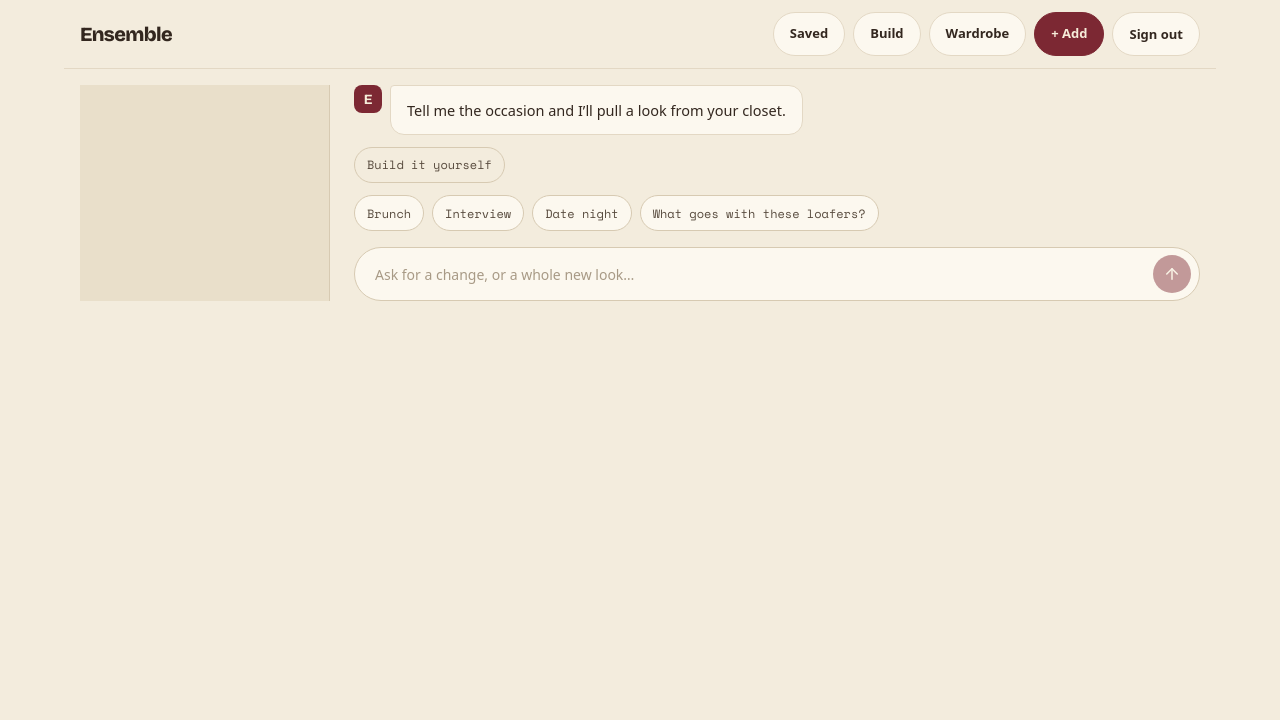
Test: App shell — sign out › signOut_clearsTokenAndReturnsToLogin
Check: the element with test id "stylist" is shown, box [354,85,1200,302]
Note: click the Sign out control.
Click the button "Sign out": [1156, 34] box [1112,12,1200,56]
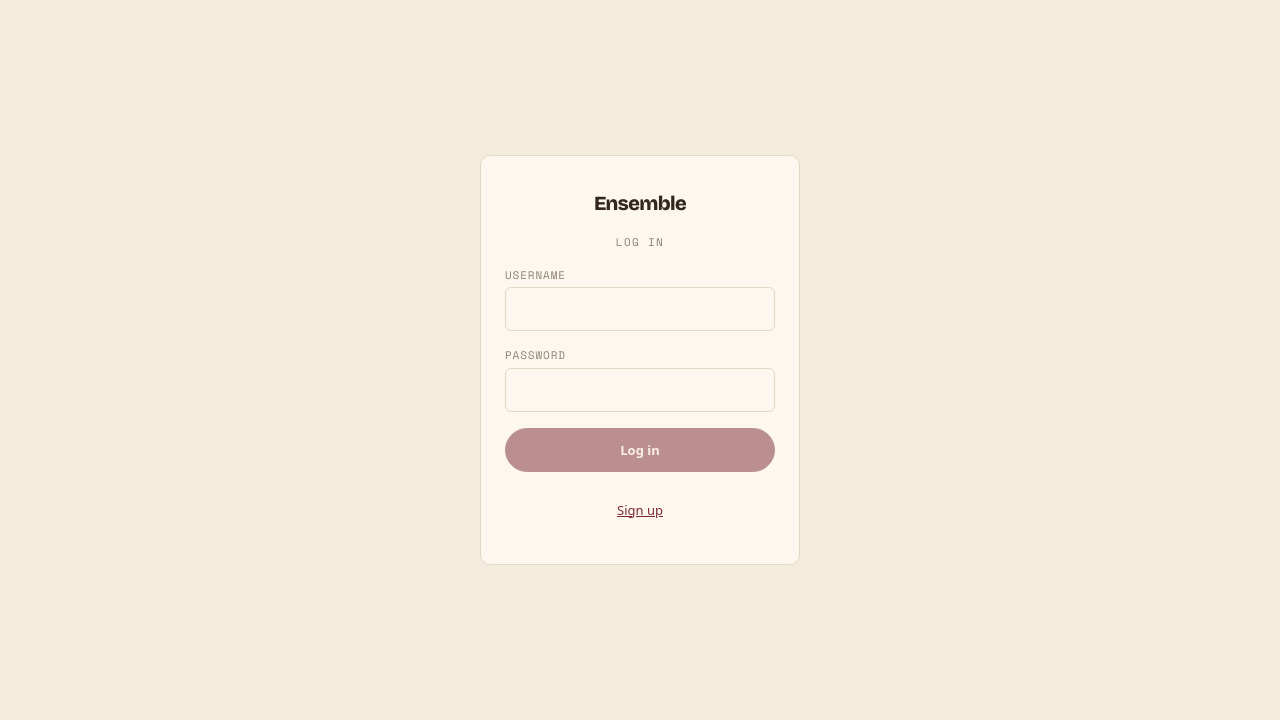
Check: the field labelled "Username" is shown, box [505,287,775,331]
